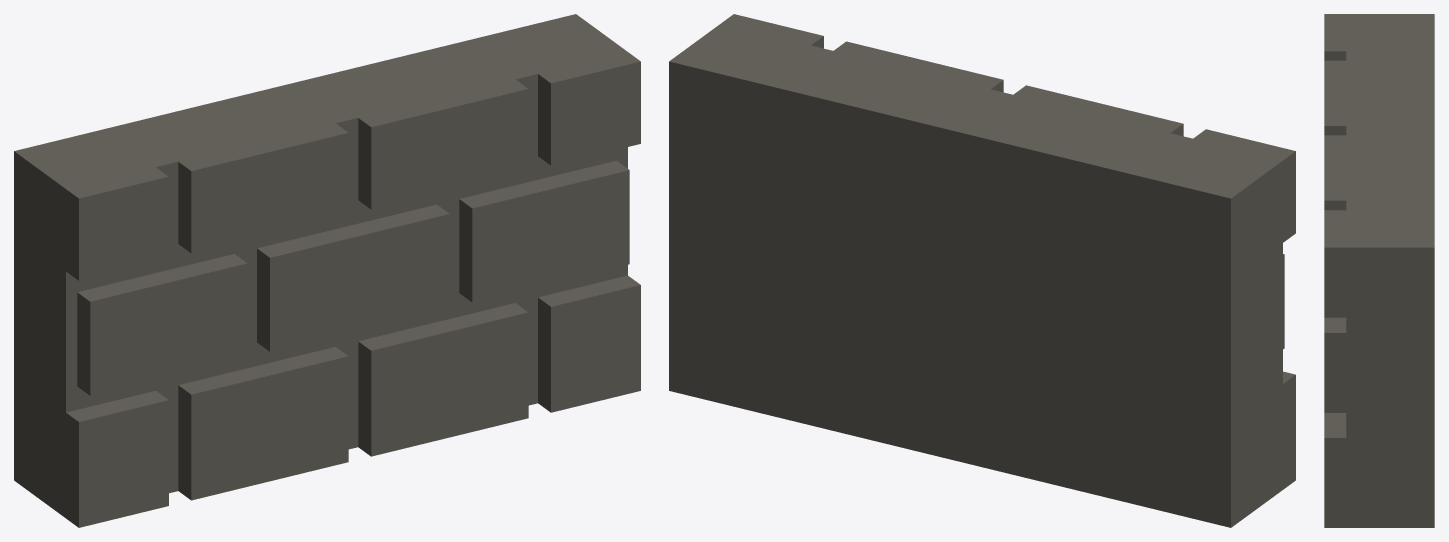
The model's file is Korean_wall_05.FBX.
The picture shows the model from 3 angles, left to right: view 1: azimuth 30°, elevation 25°; view 2: azimuth 150°, elevation 25°; view 3: azimuth 270°, elevation 25°; orthographic projection. The views are drawn at different scales.
Parts seen in each view (by area): view 1: Voxel_Korean_traditional village-3; view 2: Voxel_Korean_traditional village-3; view 3: Voxel_Korean_traditional village-3.
Part boxes in pixels (x1,y1,x2,y2): Voxel_Korean_traditional village-3: (14,14,640,527); Voxel_Korean_traditional village-3: (669,14,1295,527); Voxel_Korean_traditional village-3: (1324,14,1434,527).
Bounding box in the file's own units: 49.99 × 27.99 × 10.
Materials: 1 (1 with a texture image).
